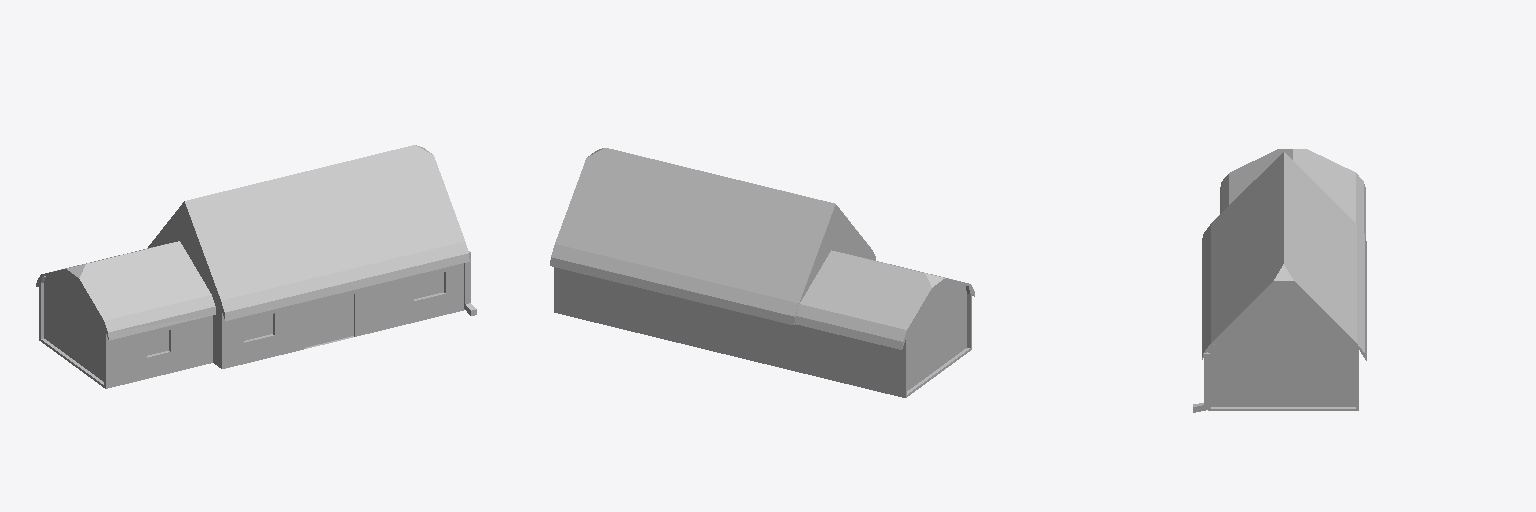
Rendered from house.obj.
The picture shows the model from 3 angles: view 1: azimuth 30°, elevation 25°; view 2: azimuth 150°, elevation 25°; view 3: azimuth 270°, elevation 25°; orthographic projection.
Parts seen in each view (by area): view 1: Roof1, g1, w3, w4, w04, f1, s2, door1, w05, f6, Window, f2 (+2 smaller); view 2: gr, w1, g1, r2, w2, w04, s2, w05; view 3: f8, Roof1, gr, f9, g1, r2, w3, s2, Roof, q2.
Part boxes in pixels (bbox=[...]): Roof1: bbox=[185, 145, 464, 300]; g1: bbox=[53, 241, 211, 320]; w3: bbox=[221, 241, 469, 320]; w4: bbox=[106, 315, 212, 388]; w04: bbox=[44, 272, 103, 381]; f1: bbox=[355, 289, 464, 336]; s2: bbox=[36, 283, 215, 340]; door1: bbox=[305, 294, 353, 347]; w05: bbox=[148, 201, 220, 302]; f6: bbox=[222, 328, 304, 368]; Window: bbox=[147, 272, 443, 355]; f2: bbox=[355, 279, 413, 315]; gr: bbox=[555, 148, 835, 302]; w1: bbox=[554, 267, 797, 371]; g1: bbox=[800, 250, 956, 329]; r2: bbox=[550, 244, 798, 324]; w2: bbox=[798, 325, 905, 397]; w04: bbox=[907, 281, 966, 390]; s2: bbox=[795, 294, 974, 349]; w05: bbox=[799, 205, 871, 303]; f8: bbox=[1211, 344, 1355, 406]; Roof1: bbox=[1211, 152, 1283, 342]; gr: bbox=[1284, 152, 1356, 342]; f9: bbox=[1214, 283, 1352, 343]; g1: bbox=[1229, 149, 1355, 222]; r2: bbox=[1357, 225, 1366, 359]; w3: bbox=[1202, 224, 1210, 356]; s2: bbox=[1220, 173, 1365, 235]; Roof: bbox=[1202, 281, 1366, 360]; q2: bbox=[1209, 407, 1357, 410].
Size of the model in its own units: 118 by 44.84 by 50.01.